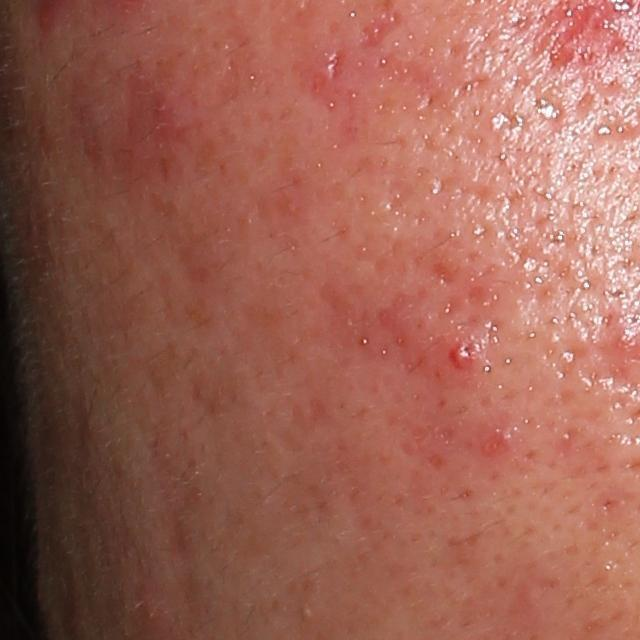atrophic_scar: (150, 434, 206, 613), (429, 259, 456, 293)
comedo: (296, 598, 317, 625)
papule: (140, 82, 183, 130), (449, 330, 487, 374)
